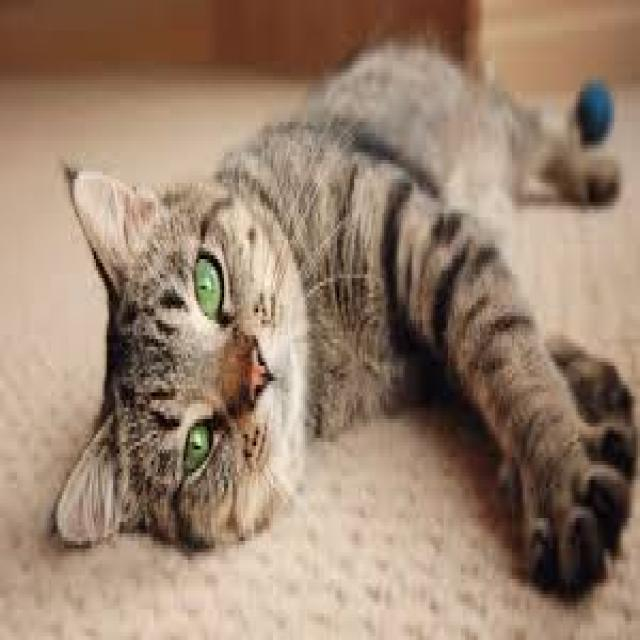CAT: (48, 57, 618, 605)
